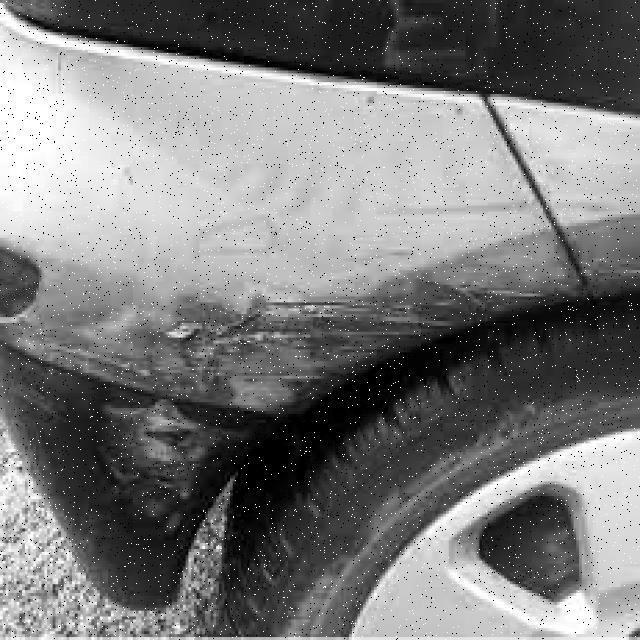rear-bumper-dent: (0, 35, 582, 607)
